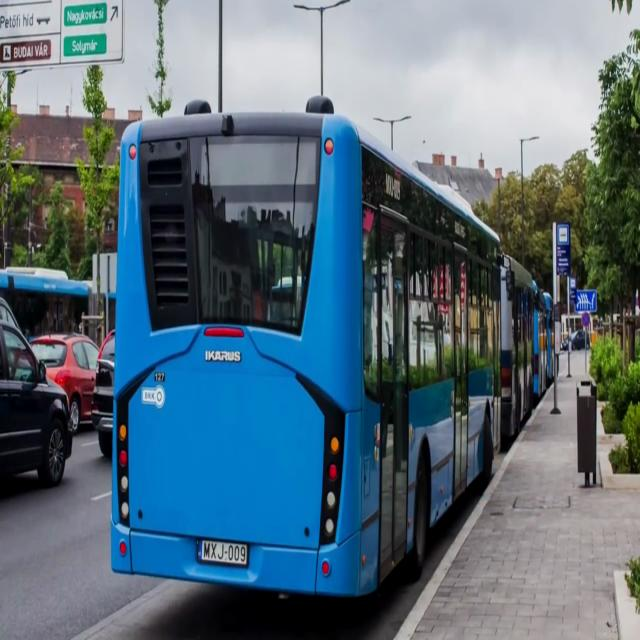bus: (110, 89, 507, 607)
